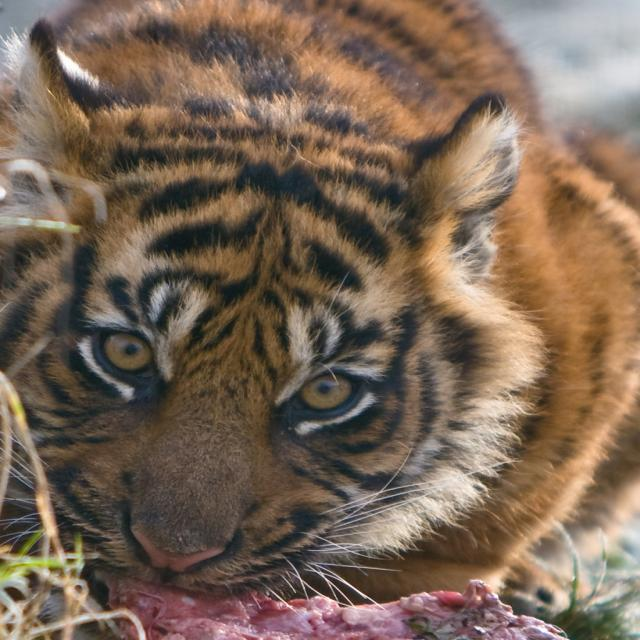Tiger: (0, 0, 639, 620)
